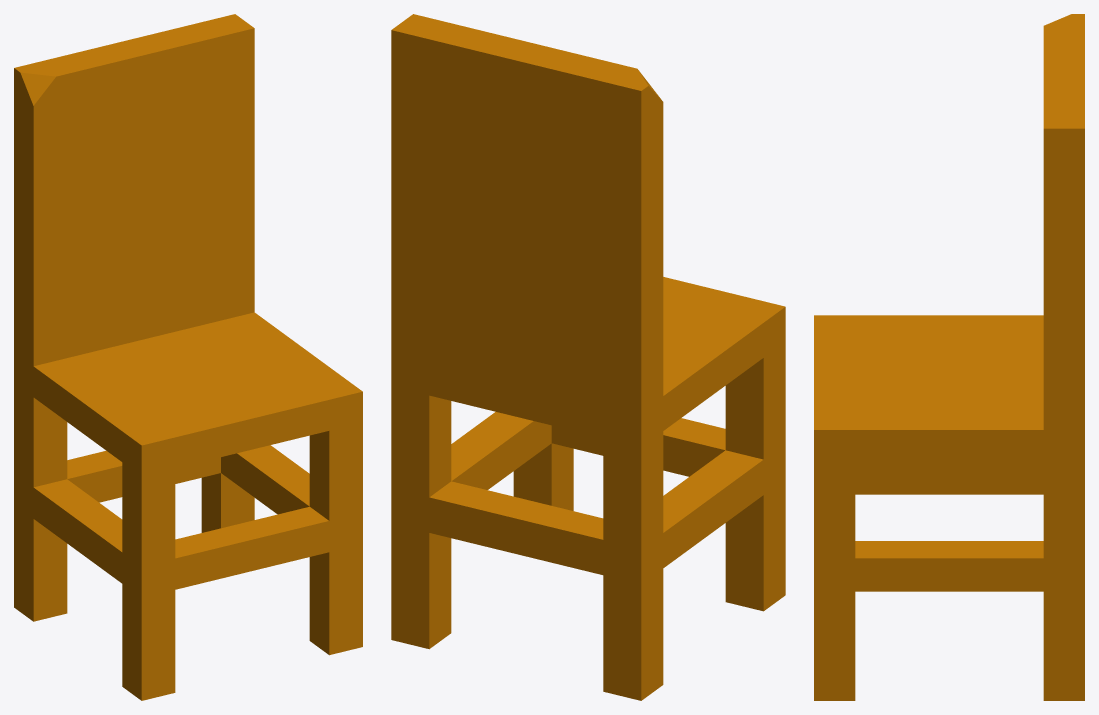
Rendered from Chair_03.fbx.
3 renders of one model, left to right at view 1: azimuth 30°, elevation 25°; view 2: azimuth 150°, elevation 25°; view 3: azimuth 270°, elevation 25°, orthographic. The views are drawn at different scales.
Parts seen in each view (by area): view 1: Chair_03; view 2: Chair_03; view 3: Chair_03.
Boxes of the visible parts, x1=… form: Chair_03: x1=14, y1=14, x2=362, y2=700; Chair_03: x1=391, y1=14, x2=785, y2=700; Chair_03: x1=814, y1=14, x2=1084, y2=700.
Size of the model in its own units: 52.89 by 123 by 52.89.
